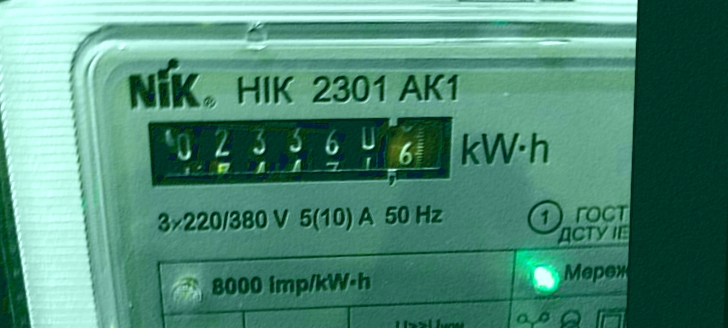0: (173, 128, 197, 163), (357, 120, 380, 152)
2: (213, 124, 234, 158)
3: (287, 120, 307, 154), (249, 124, 269, 156)
6: (396, 135, 419, 169), (322, 123, 344, 157)
screen: (130, 95, 472, 202)
